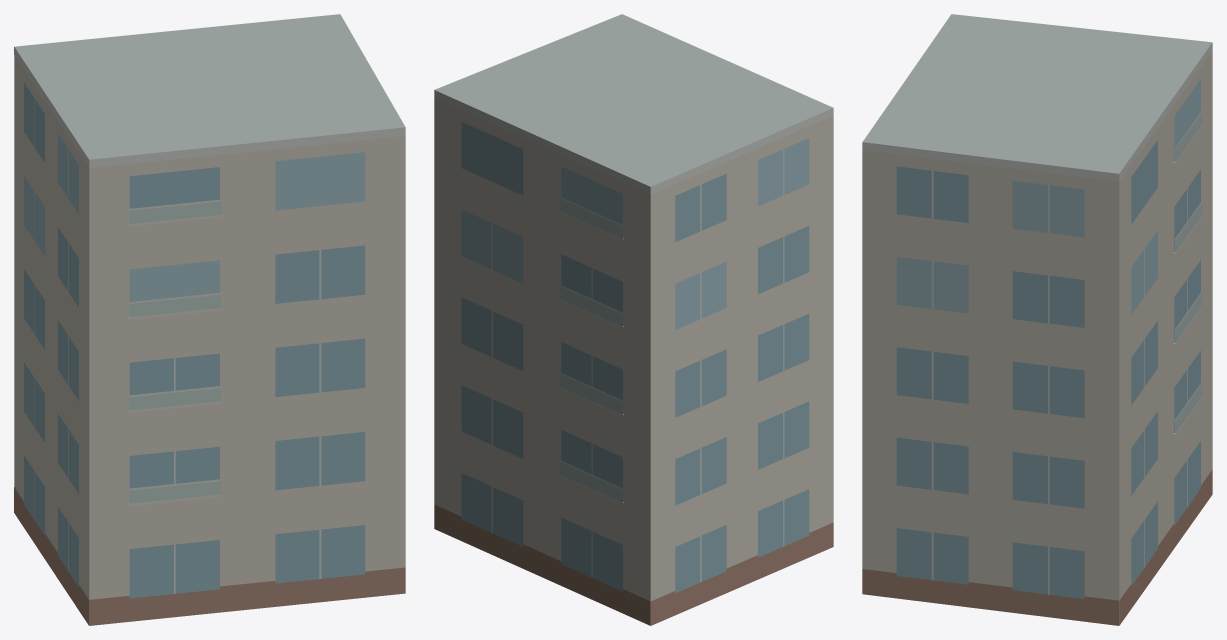
The model's file is survey-upis-32695411.glb.
3 views of the same model, side by side, from view 1: azimuth 30°, elevation 25°; view 2: azimuth 150°, elevation 25°; view 3: azimuth 270°, elevation 25° (orthographic). The views are drawn at different scales.
Visible parts, largest first — view 1: survey-upis-32695411.tmp; view 2: survey-upis-32695411.tmp; view 3: survey-upis-32695411.tmp.
Boxes of the visible parts, <box> form: survey-upis-32695411.tmp: <box>14,14,405,625</box>; survey-upis-32695411.tmp: <box>434,14,833,625</box>; survey-upis-32695411.tmp: <box>862,14,1212,625</box>.
Bounding box in the file's own units: 10.39 × 13.7 × 9.63.
